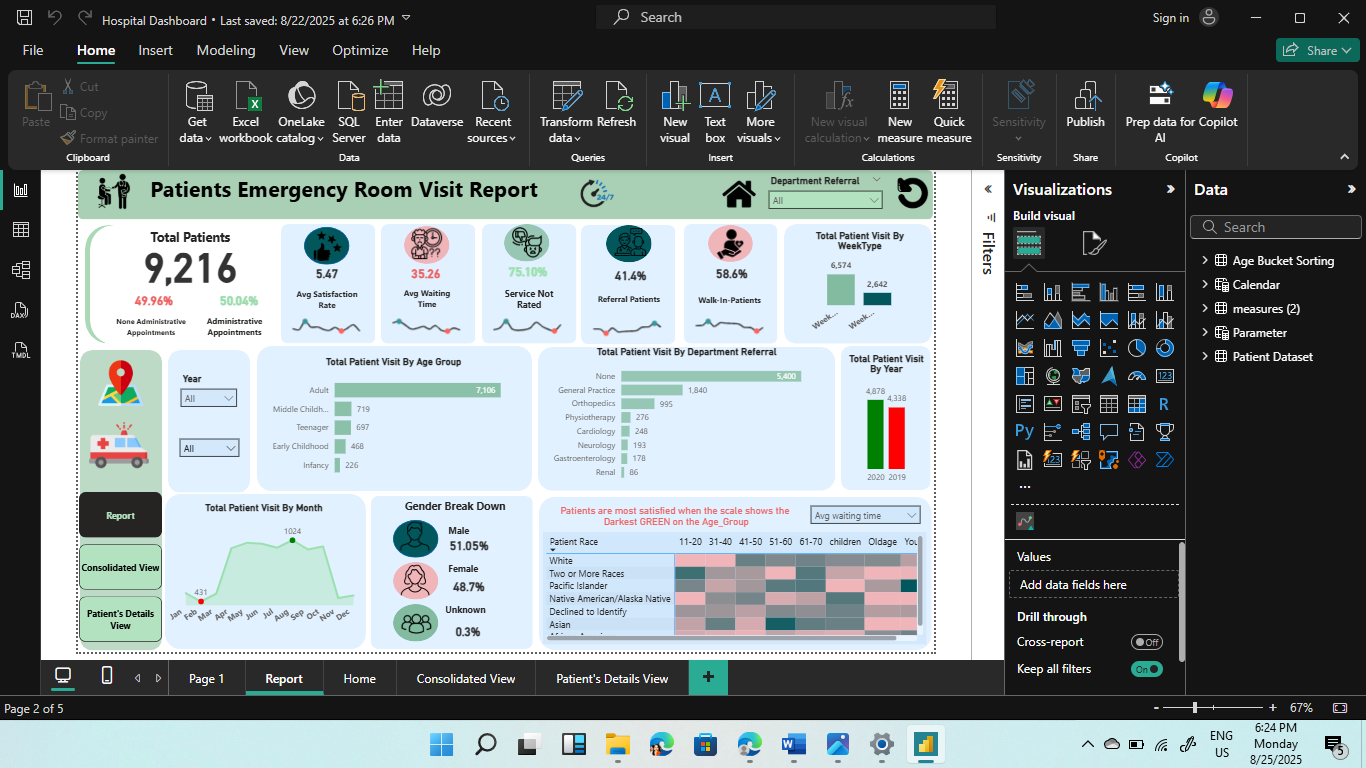

What the dashboard file says about the page in this screenshot:
{"tool":"powerbi","page":{"name":"Report","canvas":[1280,720],"ordinal":1},"visuals":[{"type":"shape","box":[0,0,1277.1,74],"z":0},{"type":"shape","box":[452.7,80.1,141.2,179],"z":0,"group":"g13"},{"type":"shape","box":[1055.2,80.7,221.1,178.9],"z":0,"group":"g2"},{"type":"shape","box":[751.9,81.5,141.2,178],"z":0,"group":"g18"},{"type":"shape","box":[267.2,263.4,410.8,217],"z":0,"group":"g5"},{"type":"group","id":"g1","title":"Group 5","box":[1139.7,263.5,133.9,215.4],"z":0,"group":"g6"},{"type":"shape","box":[1139.7,263.5,133.9,215.4],"z":0,"group":"g3"},{"type":"shape","box":[687,264.3,443.9,214.7],"z":0,"group":"g4"},{"type":"shape","box":[129.9,483.7,300.3,231.9],"z":0,"group":"g17"},{"type":"shape","box":[688.5,488.3,586.6,228.5],"z":0,"group":"g8"},{"type":"shape","box":[905.4,80.1,139.7,179],"z":1000,"group":"g10"},{"type":"group","id":"g2","title":"Group 4","box":[1055.2,80.7,221.1,178.9],"z":1000},{"type":"shape","box":[9.7,81.5,268.2,177.4],"z":1000,"group":"g16"},{"type":"shape","box":[17.5,81.5,273.4,178.7],"z":1000,"group":"g7"},{"type":"shape","box":[789.9,81.5,68.4,55.9],"z":1000,"group":"g18"},{"type":"group","id":"g3","title":"Group 4","box":[1139.7,263.5,133.9,215.4],"z":1000,"group":"g1"},{"type":"columnChart","title":"Total Patient Visit By Year","fields":{"Category":["Calendar.Year"],"Y":["measures (2).Total Patient"]},"box":[1146.2,273.5,124.1,203.3],"z":1000,"group":"g6"},{"type":"areaChart","title":"Total Patient Visit By Month","fields":{"Category":["Calendar.Month"],"Y":["measures (2).Total Patient"]},"box":[129.8,495.8,295.6,200.4],"z":1000,"group":"g17"},{"type":"shape","box":[303,80.3,141,178.7],"z":2000,"group":"g12"},{"type":"card","fields":{"Values":["measures (2).% RefferedPatients"]},"box":[786.8,141.9,79.4,31.4],"z":2000,"group":"g18"},{"type":"group","id":"g4","title":"Group 4","box":[687,263,443.9,216],"z":2000},{"type":"shape","box":[941.2,82,67.2,55.4],"z":3000,"group":"g10"},{"type":"textbox","box":[769,177.8,113.5,35.3],"z":3000,"group":"g18"},{"type":"group","id":"g5","title":"Group 4","box":[267.2,263.4,411.9,217],"z":3000},{"type":"card","fields":{"Values":["measures (2).% UnRefferedPatients"]},"box":[941.5,138.4,70.5,31.6],"z":4000,"group":"g10"},{"type":"PBI_CV_25997FEB_F466_44FA_B562_AC4063283C4C","fields":{"axis":["Calendar.Month"],"measure":["measures (2).% RefferedPatients"]},"box":[753.5,211.6,139.3,42.8],"z":4000,"group":"g18"},{"type":"group","id":"g6","title":"Group 6","box":[1139.7,263.5,133.9,215.4],"z":4000},{"type":"image","box":[7.3,0,91.7,64],"z":5000},{"type":"columnChart","title":"Total Patient Visit By WeekType","fields":{"Y":["measures (2).Total Patient"],"Category":["Calendar.WeekType"]},"box":[1065.3,90.1,206,162.3],"z":5000,"group":"g2"},{"type":"barChart","title":"Total Patient Visit By Department Referral","fields":{"Category":["Patient Dataset.department_referral"],"Y":["measures (2).Total Patient"]},"box":[696.8,263,423.6,210.3],"z":5000,"group":"g4"},{"type":"barChart","title":"Total Patient Visit By Age Group","fields":{"Category":["Patient Dataset.Age Group"],"Y":["measures (2).Total Patient"]},"box":[270.1,278.8,401.9,190.8],"z":5000,"group":"g5"},{"type":"group","id":"g7","title":"Group 2","box":[17.5,81.5,273.4,178.7],"z":6000,"group":"g16"},{"type":"shape","box":[337.7,84.5,67.9,56.3],"z":6000,"group":"g12"},{"type":"shape","box":[134.2,268.3,122.6,213.1],"z":6000},{"type":"slicer","fields":{"Values":["Parameter.Parameter"]},"box":[1084.6,492.1,183.7,53],"z":6000,"group":"g9"},{"type":"textbox","box":[102.7,0,617.9,70.1],"z":7000},{"type":"textbox","box":[910.5,178.2,127,33.5],"z":7000,"group":"g10"},{"type":"pivotTable","fields":{"Values":["measures (2).Average waiting time"],"Rows":["Patient Dataset.patient_race"],"Columns":["Patient Dataset.Age Bucket"]},"box":[695.2,541.5,572.7,168.4],"z":7000,"group":"g9"},{"type":"shape","box":[486.7,83,68,56.6],"z":8000,"group":"g13"},{"type":"slicer","fields":{"Values":["Patient Dataset.Moment"]},"box":[141.9,391.5,109.3,61.3],"z":8000},{"type":"card","fields":{"Values":["measures (2).HeatMapCaption"]},"box":[691.5,492.3,403.9,53],"z":8000,"group":"g9"},{"type":"image","box":[1216.6,5,62.9,59.6],"z":9000},{"type":"PBI_CV_25997FEB_F466_44FA_B562_AC4063283C4C","fields":{"axis":["Calendar.Month"],"measure":["measures (2).% UnRefferedPatients"]},"box":[905.4,209.1,139.7,42.5],"z":9000,"group":"g10"},{"type":"card","fields":{"Values":["measures (2).Average waiting time"]},"box":[483.4,139.6,71.3,30],"z":10000,"group":"g13"},{"type":"group","id":"g8","title":"Group 4","box":[688.5,488.3,586.6,228.5],"z":10000},{"type":"shape","box":[602.8,80.2,141,178.7],"z":11000,"group":"g14"},{"type":"group","id":"g9","title":"Group 1","box":[691.5,492.1,576.8,217.8],"z":11000},{"type":"image","box":[958,0,59.6,71.2],"z":12000},{"type":"textbox","box":[466.6,168.7,110.7,48.7],"z":12000,"group":"g13"},{"type":"card","fields":{"Values":["measures (2).Total Patient"]},"box":[68.4,94.6,198,84.4],"z":12500,"group":"g7"},{"type":"group","id":"g10","title":"Group 8","box":[905.4,80.1,139.7,179],"z":13000},{"type":"card","fields":{"Values":["measures (2).Average Satisfaction score"]},"box":[336.5,140,71.3,29.1],"z":13000,"group":"g12"},{"type":"card","fields":{"Values":["measures (2).% None Adminstrative Schedule"]},"box":[76.8,180.4,71.2,30.3],"z":13000,"group":"g7"},{"type":"card","fields":{"Values":["measures (2).% Adminstrative Schedule"]},"box":[203.5,180.4,71.2,30.3],"z":13500,"group":"g7"},{"type":"PBI_CV_25997FEB_F466_44FA_B562_AC4063283C4C","fields":{"axis":["Calendar.Month"],"measure":["measures (2).Average waiting time"]},"box":[452.9,208.3,139.5,42.6],"z":14000,"group":"g13"},{"type":"textbox","box":[42.5,210.2,131.7,46.9],"z":14000,"group":"g7"},{"type":"group","id":"g11","title":"Group 9","box":[438.1,486.2,241.6,230.4],"z":14000},{"type":"textbox","box":[178.8,210.2,109,46.9],"z":14500,"group":"g7"},{"type":"group","id":"g12","title":"Group 10","box":[303,80.3,141,178.7],"z":15000},{"type":"textbox","box":[77.3,81.5,180.2,34.8],"z":15000,"group":"g7"},{"type":"group","id":"g13","title":"Group 11","box":[452.7,80.1,141.2,179],"z":16000},{"type":"textbox","box":[316.6,169.6,110.5,48.5],"z":16000,"group":"g12"},{"type":"group","id":"g14","title":"Group 12","box":[602.8,79.4,141,179.5],"z":17000},{"type":"group","id":"g15","title":"Group 13","box":[751.9,78.6,141.2,180.9],"z":18000},{"type":"shape","box":[635.6,81.1,67.9,56.3],"z":18000,"group":"g14"},{"type":"group","id":"g16","title":"Group 3","box":[9.7,81.5,281.1,178.7],"z":19000},{"type":"card","fields":{"Values":["measures (2).% No Rating"]},"box":[635.6,137.3,71.2,29.8],"z":20000,"group":"g14"},{"type":"group","id":"g17","title":"Group 15","box":[129.8,483.7,300.9,231.9],"z":20000},{"type":"PBI_CV_25997FEB_F466_44FA_B562_AC4063283C4C","fields":{"measure":["measures (2).Average Satisfaction score"],"axis":["Calendar.Month"]},"box":[303,209,139.3,42.4],"z":21000,"group":"g12"},{"type":"slicer","fields":{"Values":["Calendar.Year"]},"box":[144.1,298.7,104.4,69.6],"z":21000},{"type":"slicer","fields":{"Values":["Patient Dataset.department_referral"]},"box":[1022,3.3,190.5,66.3],"z":22000},{"type":"textbox","box":[617.4,170.4,110.9,49.7],"z":23000,"group":"g14"},{"type":"shape","box":[3.3,268.3,122.6,448.9],"z":23000},{"type":"image","box":[6.6,279.9,116.5,77.9],"z":24000},{"type":"image","box":[725.5,5,99.4,61.3],"z":25000},{"type":"PBI_CV_25997FEB_F466_44FA_B562_AC4063283C4C","fields":{"axis":["Calendar.Month"],"measure":["measures (2).% No Rating"]},"box":[602.8,208.9,139.3,42.4],"z":25000,"group":"g14"},{"type":"image","box":[0,360.6,122.6,101.6],"z":26000},{"type":"pageNavigator","box":[1.7,480.9,124.2,226.4],"z":27000},{"type":"image","box":[640.6,79.4,59.6,57.9],"z":29000,"group":"g14"},{"type":"image","box":[493.4,81.4,56.4,56.6],"z":30000,"group":"g13"},{"type":"image","box":[945.5,83.4,56.9,55.4],"z":35000,"group":"g10"},{"type":"shape","box":[438.1,488,241.6,228.5],"z":41000,"group":"g11"},{"type":"shape","box":[470.4,649.4,67.9,56.3],"z":42000,"group":"g11"},{"type":"image","box":[340.6,84.5,65.5,56.8],"z":43000,"group":"g12"},{"type":"textbox","box":[468.7,486.2,192.1,39.3],"z":44000,"group":"g11"},{"type":"textbox","box":[548.2,524.5,71.3,33.5],"z":45000,"group":"g11"},{"type":"textbox","box":[548.2,581.6,67.9,33.1],"z":46000,"group":"g11"},{"type":"shape","box":[470.4,586.5,67.9,56.3],"z":47000,"group":"g11"},{"type":"shape","box":[470.4,523.6,67.9,56.3],"z":48000,"group":"g11"},{"type":"card","fields":{"Values":["measures (2).%unknowngender"]},"box":[548.2,674.5,68.4,32],"z":49000,"group":"g11"},{"type":"card","fields":{"Values":["measures (2).%femalevisit"]},"box":[548.2,608,71.2,29.8],"z":50000,"group":"g11"},{"type":"card","fields":{"Values":["measures (2).% malevisit"]},"box":[548.2,546.8,71.2,29.8],"z":51000,"group":"g11"},{"type":"image","box":[472.6,643.2,67,71.3],"z":52000,"group":"g11"},{"type":"image","box":[475.9,585.2,56.8,56.8],"z":53000,"group":"g11"},{"type":"image","box":[474.5,521.1,59.7,55.3],"z":54000,"group":"g11"},{"type":"textbox","box":[543.9,643.4,74.2,31.8],"z":55000,"group":"g11"},{"type":"group","id":"g18","title":"Group 7","box":[751.9,81.5,141.2,178],"z":56000,"group":"g15"},{"type":"image","box":[791.8,78.6,67,56.8],"z":57000,"group":"g15"}]}

Visuals, with their boxes on the page's 1280x720 design canvas (x1, y1, x2, y2). These are canvas units, not pixel positions in the 1366x768 screenshot, which may show the page scaled, cropped or inside an application window:
shape: bbox=[0, 0, 1277, 74]
shape: bbox=[453, 80, 594, 259]
shape: bbox=[1055, 81, 1276, 260]
shape: bbox=[752, 82, 893, 260]
shape: bbox=[267, 263, 678, 480]
"Group 5" group: bbox=[1140, 264, 1274, 479]
shape: bbox=[1140, 264, 1274, 479]
shape: bbox=[687, 264, 1131, 479]
shape: bbox=[130, 484, 430, 716]
shape: bbox=[688, 488, 1275, 717]
shape: bbox=[905, 80, 1045, 259]
"Group 4" group: bbox=[1055, 81, 1276, 260]
shape: bbox=[10, 82, 278, 259]
shape: bbox=[18, 82, 291, 260]
shape: bbox=[790, 82, 858, 137]
"Group 4" group: bbox=[1140, 264, 1274, 479]
"Total Patient Visit By Year" columnChart: bbox=[1146, 274, 1270, 477]
"Total Patient Visit By Month" areaChart: bbox=[130, 496, 425, 696]
shape: bbox=[303, 80, 444, 259]
card - measures (2).% RefferedPatients: bbox=[787, 142, 866, 173]
"Group 4" group: bbox=[687, 263, 1131, 479]
shape: bbox=[941, 82, 1008, 137]
textbox: bbox=[769, 178, 882, 213]
"Group 4" group: bbox=[267, 263, 679, 480]
card - measures (2).% UnRefferedPatients: bbox=[942, 138, 1012, 170]
PBI_CV_25997FEB_F466_44FA_B562_AC4063283C4C - Calendar.Month x measures (2).% RefferedPatients: bbox=[754, 212, 893, 254]
"Group 6" group: bbox=[1140, 264, 1274, 479]
image: bbox=[7, 0, 99, 64]
"Total Patient Visit By WeekType" columnChart: bbox=[1065, 90, 1271, 252]
"Total Patient Visit By Department Referral" barChart: bbox=[697, 263, 1120, 473]
"Total Patient Visit By Age Group" barChart: bbox=[270, 279, 672, 470]
"Group 2" group: bbox=[18, 82, 291, 260]
shape: bbox=[338, 84, 406, 141]
shape: bbox=[134, 268, 257, 481]
slicer - Parameter.Parameter: bbox=[1085, 492, 1268, 545]
textbox: bbox=[103, 0, 721, 70]
textbox: bbox=[910, 178, 1038, 212]
pivotTable - measures (2).Average waiting time x Patient Dataset.patient_race: bbox=[695, 542, 1268, 710]
shape: bbox=[487, 83, 555, 140]
slicer - Patient Dataset.Moment: bbox=[142, 392, 251, 453]
card - measures (2).HeatMapCaption: bbox=[692, 492, 1095, 545]
image: bbox=[1217, 5, 1280, 65]
PBI_CV_25997FEB_F466_44FA_B562_AC4063283C4C - Calendar.Month x measures (2).% UnRefferedPatients: bbox=[905, 209, 1045, 252]
card - measures (2).Average waiting time: bbox=[483, 140, 555, 170]
"Group 4" group: bbox=[688, 488, 1275, 717]
shape: bbox=[603, 80, 744, 259]
"Group 1" group: bbox=[692, 492, 1268, 710]
image: bbox=[958, 0, 1018, 71]
textbox: bbox=[467, 169, 577, 217]
card - measures (2).Total Patient: bbox=[68, 95, 266, 179]
"Group 8" group: bbox=[905, 80, 1045, 259]
card - measures (2).Average Satisfaction score: bbox=[336, 140, 408, 169]
card - measures (2).% None Adminstrative Schedule: bbox=[77, 180, 148, 211]
card - measures (2).% Adminstrative Schedule: bbox=[204, 180, 275, 211]
PBI_CV_25997FEB_F466_44FA_B562_AC4063283C4C - Calendar.Month x measures (2).Average waiting time: bbox=[453, 208, 592, 251]
textbox: bbox=[42, 210, 174, 257]
"Group 9" group: bbox=[438, 486, 680, 717]
textbox: bbox=[179, 210, 288, 257]
"Group 10" group: bbox=[303, 80, 444, 259]
textbox: bbox=[77, 82, 258, 116]
"Group 11" group: bbox=[453, 80, 594, 259]
textbox: bbox=[317, 170, 427, 218]
"Group 12" group: bbox=[603, 79, 744, 259]
"Group 13" group: bbox=[752, 79, 893, 260]
shape: bbox=[636, 81, 704, 137]
"Group 3" group: bbox=[10, 82, 291, 260]
card - measures (2).% No Rating: bbox=[636, 137, 707, 167]
"Group 15" group: bbox=[130, 484, 431, 716]
PBI_CV_25997FEB_F466_44FA_B562_AC4063283C4C - measures (2).Average Satisfaction score x Calendar.Month: bbox=[303, 209, 442, 251]
slicer - Calendar.Year: bbox=[144, 299, 248, 368]
slicer - Patient Dataset.department_referral: bbox=[1022, 3, 1212, 70]
textbox: bbox=[617, 170, 728, 220]
shape: bbox=[3, 268, 126, 717]
image: bbox=[7, 280, 123, 358]
image: bbox=[726, 5, 825, 66]
PBI_CV_25997FEB_F466_44FA_B562_AC4063283C4C - Calendar.Month x measures (2).% No Rating: bbox=[603, 209, 742, 251]
image: bbox=[0, 361, 123, 462]
pageNavigator: bbox=[2, 481, 126, 707]
image: bbox=[641, 79, 700, 137]
image: bbox=[493, 81, 550, 138]
image: bbox=[946, 83, 1002, 139]
shape: bbox=[438, 488, 680, 716]
shape: bbox=[470, 649, 538, 706]
image: bbox=[341, 84, 406, 141]
textbox: bbox=[469, 486, 661, 526]
textbox: bbox=[548, 524, 620, 558]
textbox: bbox=[548, 582, 616, 615]
shape: bbox=[470, 586, 538, 643]
shape: bbox=[470, 524, 538, 580]
card - measures (2).%unknowngender: bbox=[548, 674, 617, 706]
card - measures (2).%femalevisit: bbox=[548, 608, 619, 638]
card - measures (2).% malevisit: bbox=[548, 547, 619, 577]
image: bbox=[473, 643, 540, 714]
image: bbox=[476, 585, 533, 642]
image: bbox=[474, 521, 534, 576]
textbox: bbox=[544, 643, 618, 675]
"Group 7" group: bbox=[752, 82, 893, 260]
image: bbox=[792, 79, 859, 135]
